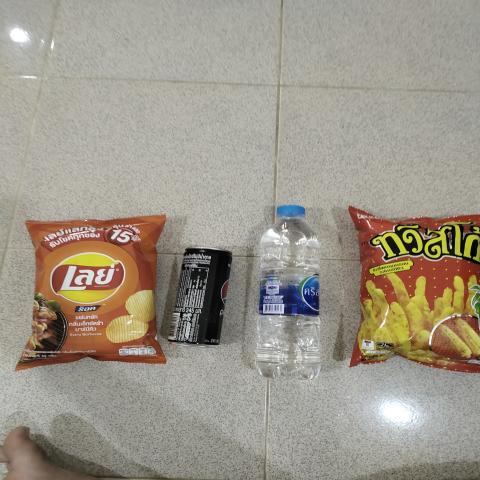crystal: (251, 202, 322, 382)
pepsi_black: (168, 243, 232, 346)
twisco: (353, 216, 477, 368)
